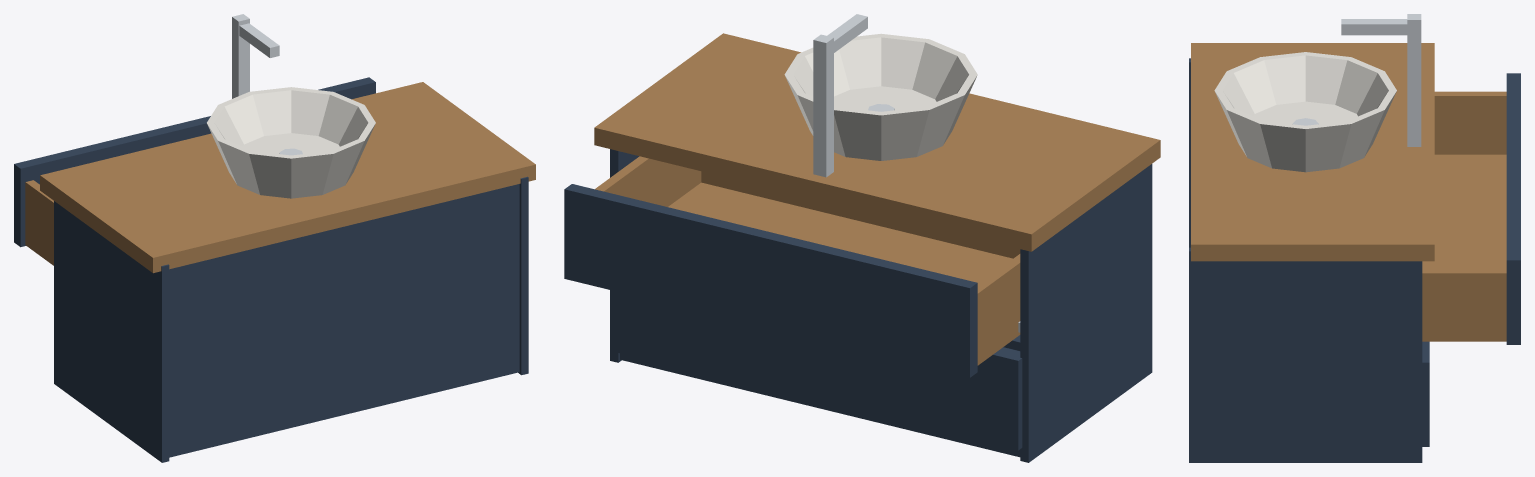
Rendered from FN_Vanity_Bathroom.glb.
3 views of the same model, side by side, from view 1: azimuth 30°, elevation 25°; view 2: azimuth 150°, elevation 25°; view 3: azimuth 270°, elevation 25° (orthographic). The views are drawn at different scales.
Parts seen in each view (by area): view 1: FN_Vanity_Bathroom; view 2: FN_Vanity_Bathroom; view 3: FN_Vanity_Bathroom.
Boxes of the visible parts, bbox=[...] form: FN_Vanity_Bathroom: bbox=[14, 14, 535, 462]; FN_Vanity_Bathroom: bbox=[564, 14, 1160, 462]; FN_Vanity_Bathroom: bbox=[1189, 14, 1520, 462].
Bounding box in the file's own units: 0.94 × 0.76 × 0.654.
Materials: 1 (1 with a texture image).
